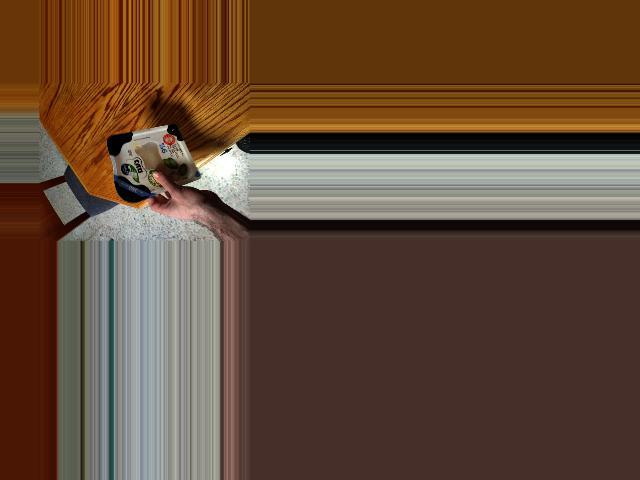cheese: (109, 126, 185, 200)
